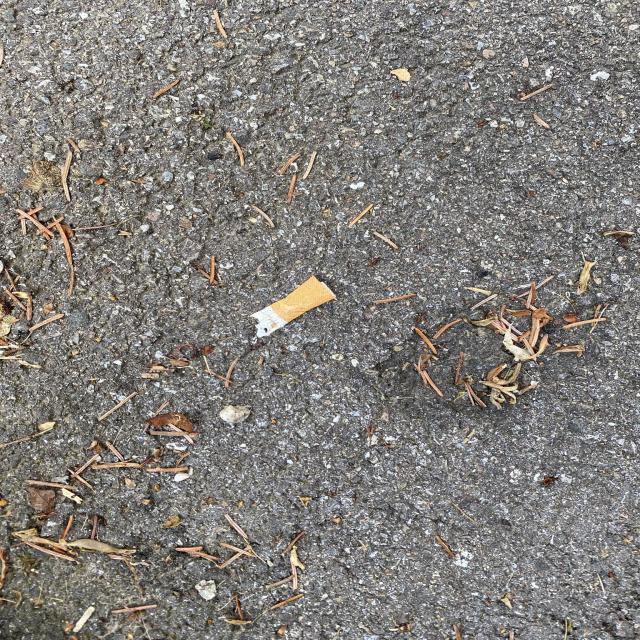other waste: (249, 275, 337, 338)
